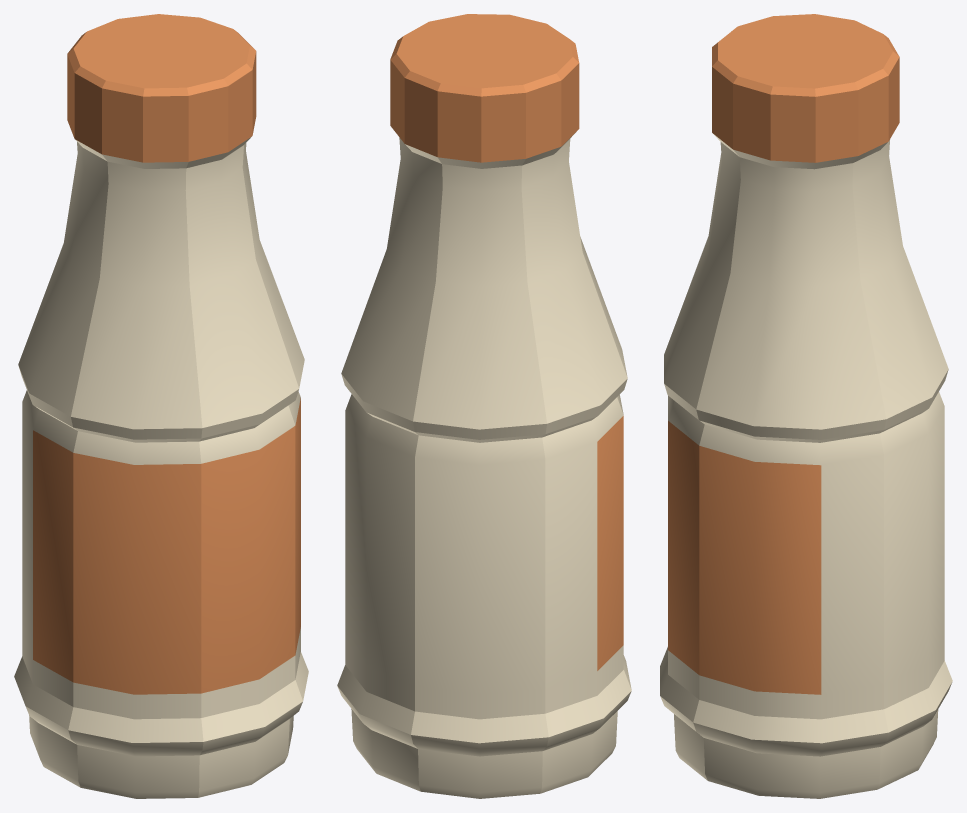
The model's file is SISEKE (1).fbx.
3 views of the same model, side by side, from view 1: azimuth 30°, elevation 25°; view 2: azimuth 150°, elevation 25°; view 3: azimuth 270°, elevation 25° (orthographic).
Visible parts, largest first — view 1: Cylinder; view 2: Cylinder; view 3: Cylinder.
Boxes of the visible parts, <box> form: Cylinder: <box>14,14,308,798</box>; Cylinder: <box>337,14,631,798</box>; Cylinder: <box>660,14,952,798</box>.
Bounding box in the file's own units: 58.68 × 153 × 58.25.
